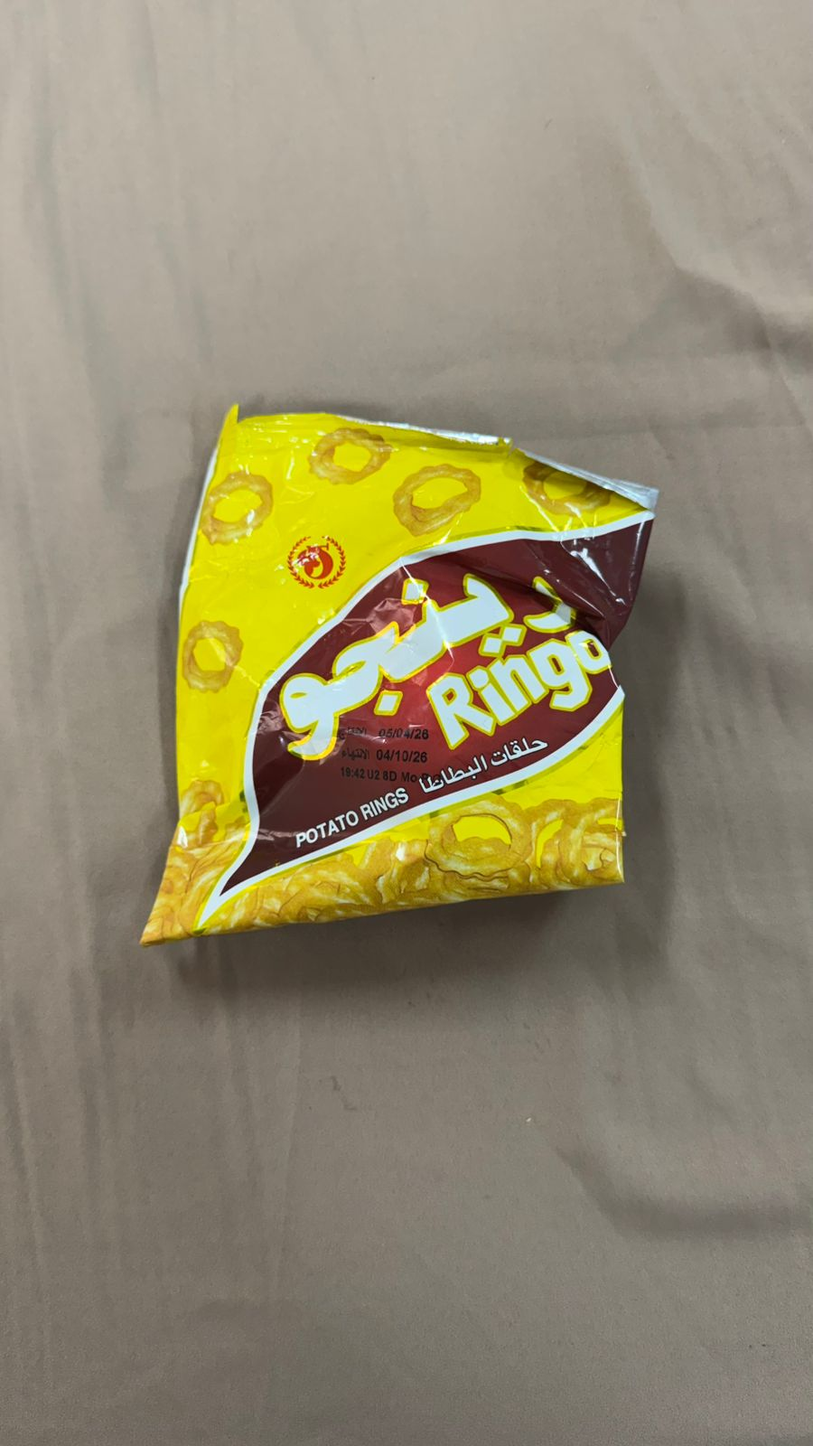plastic: (81, 179, 732, 1336)
